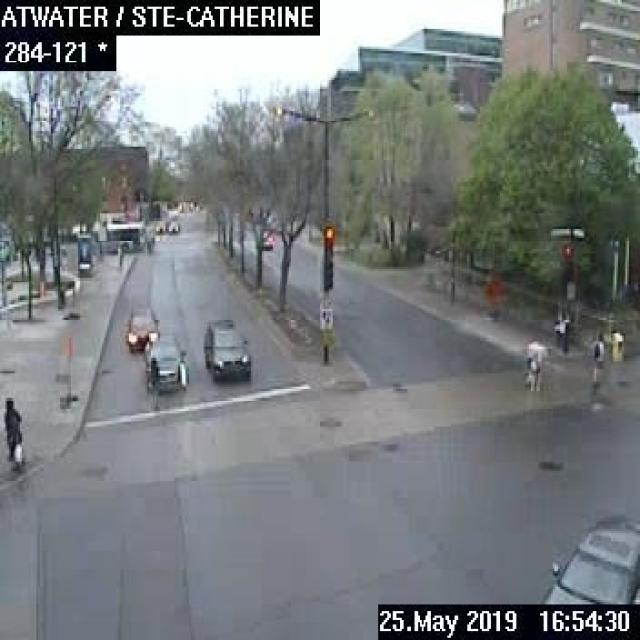bus: (88, 219, 144, 251)
construction: (483, 279, 497, 316)
pedestrian: (0, 395, 25, 473), (588, 327, 608, 391), (520, 340, 545, 390), (146, 352, 160, 409)
vehicle: (538, 516, 638, 602), (201, 318, 251, 382), (145, 332, 187, 392), (124, 302, 157, 350), (256, 230, 273, 248), (154, 218, 166, 233), (166, 218, 178, 232)
